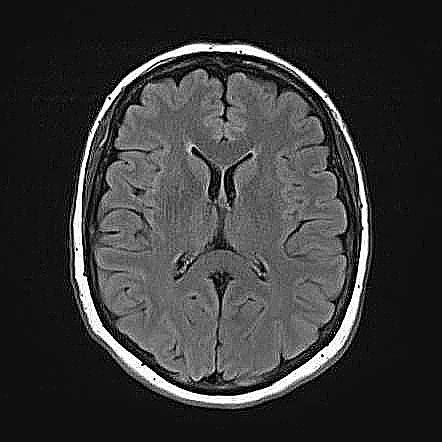Normal_Brain: (1, 6, 442, 442)
